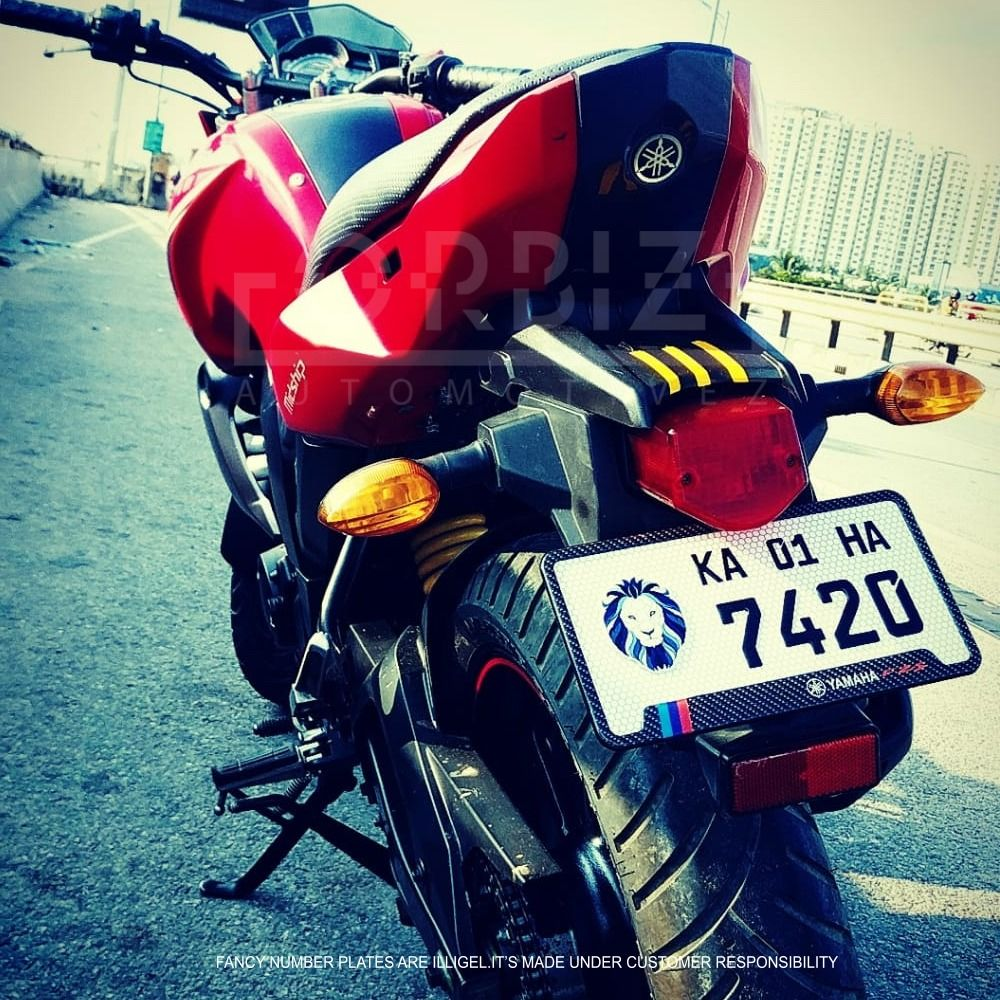bike: (27, 26, 991, 995)
numberplate: (537, 473, 985, 781)
